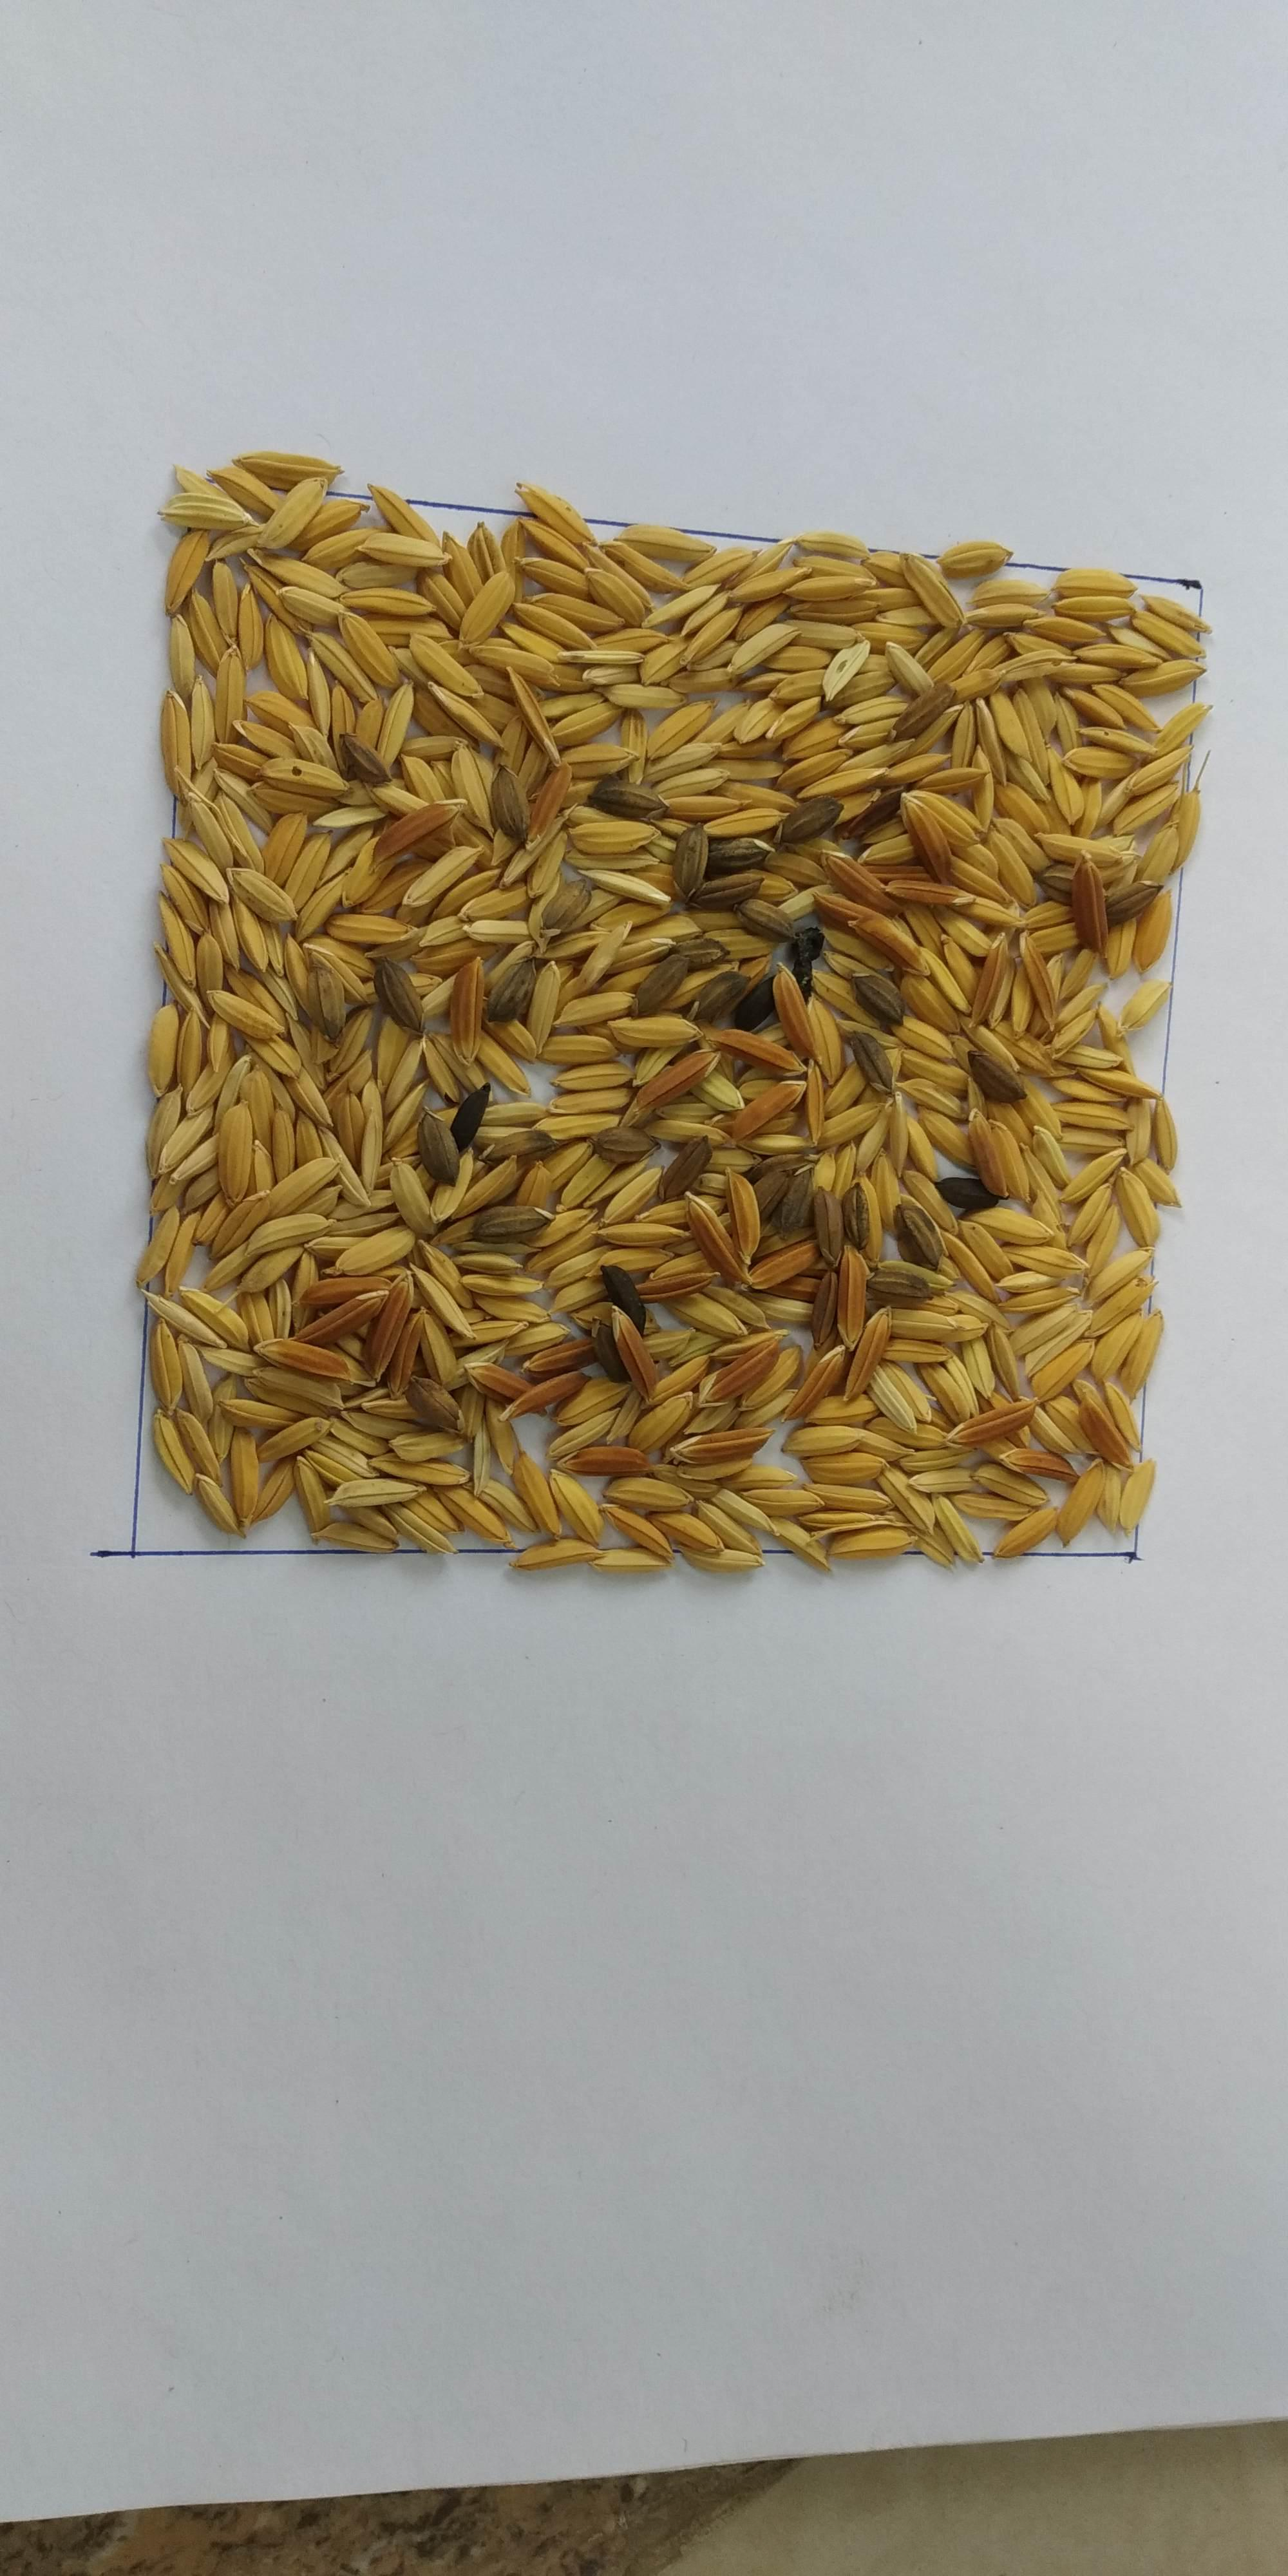impure: (205, 600, 1129, 1533)
